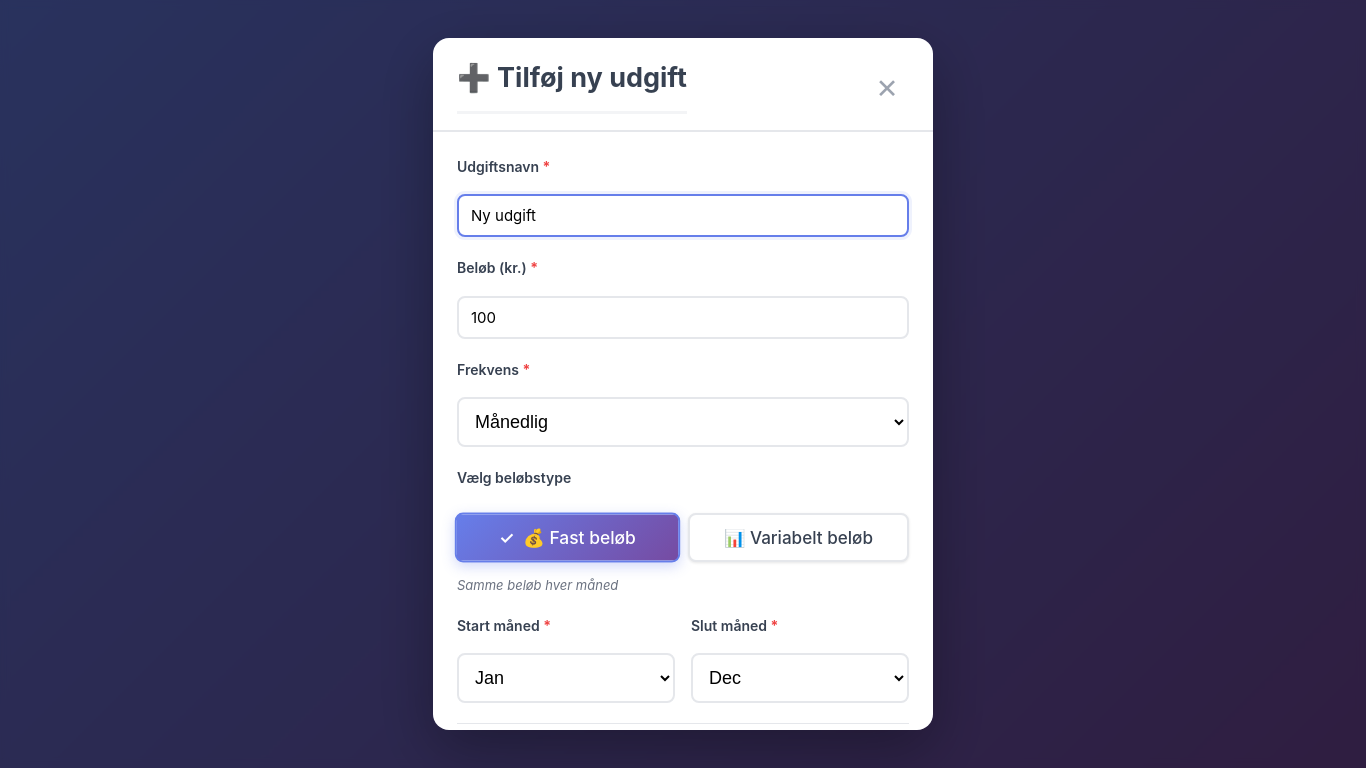
Scenario: AddExpenseModal › Name Field Validation › should clear error when valid name entered
Clear the field labelled "Udgiftsnavn *": [683, 216] box [457,194,909,237]
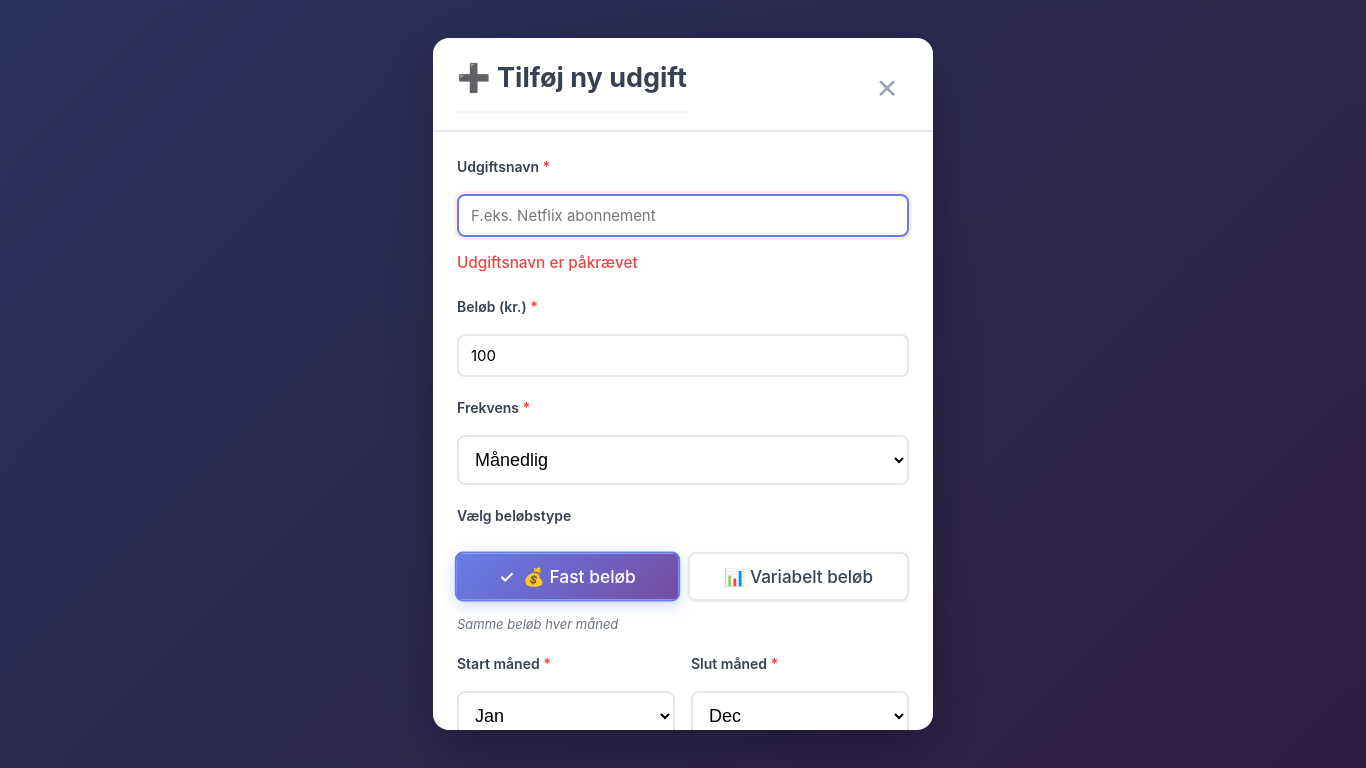
Expected: the text "Udgiftsnavn er påkrævet" is shown, [457,253,638,272]
In the field labelled "Udgiftsnavn *": [683, 216] box [457,194,909,237], type "Valid Name"
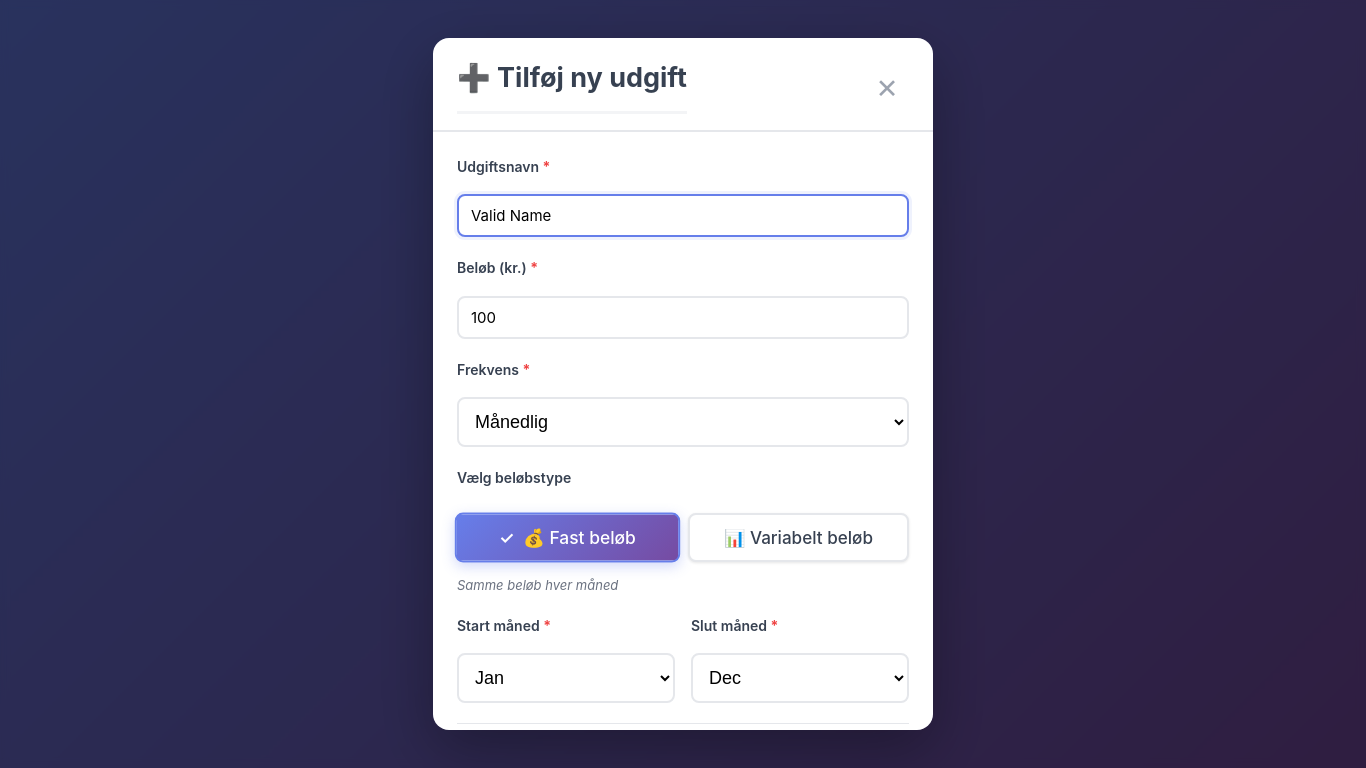
Expected: the text "Udgiftsnavn er påkrævet" is gone
